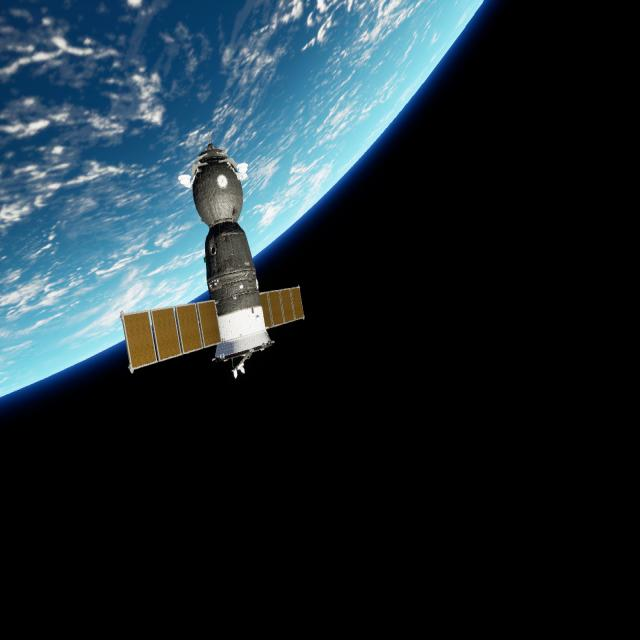Satellites revolving around earth: (119, 129, 307, 381)
